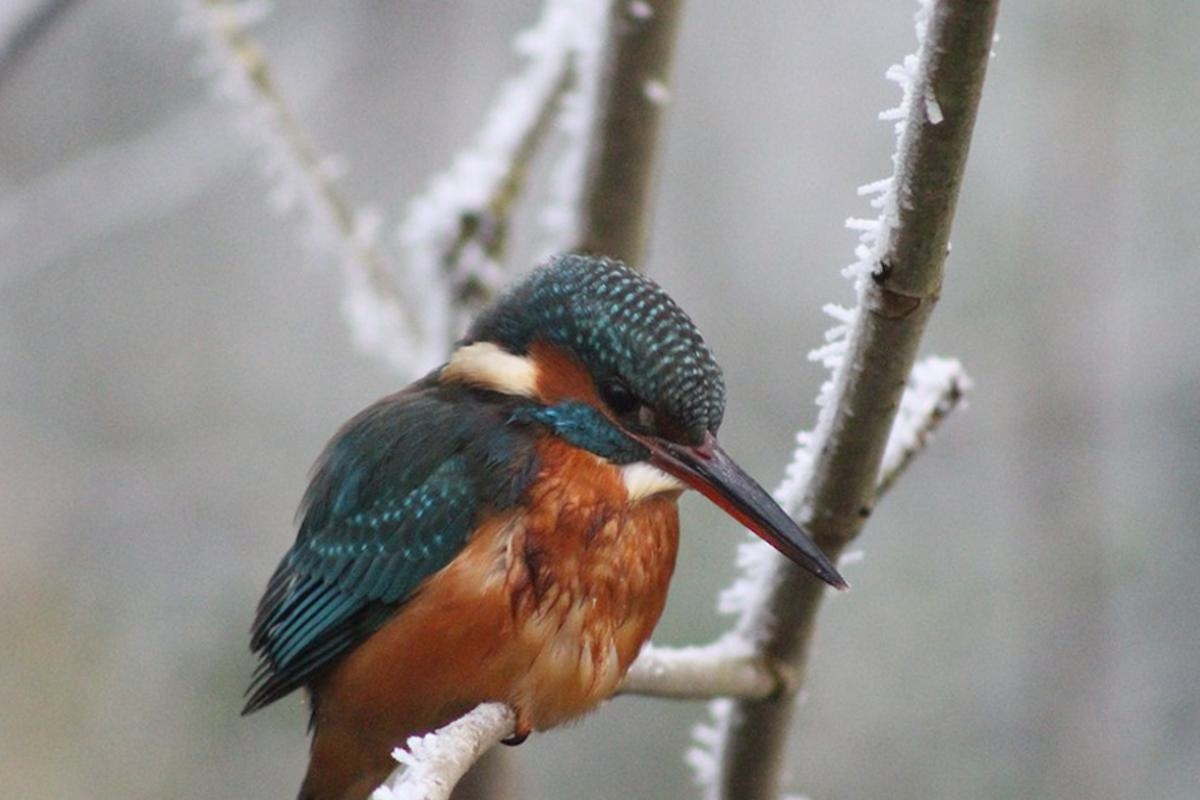kingfisher: (305, 238, 859, 743)
